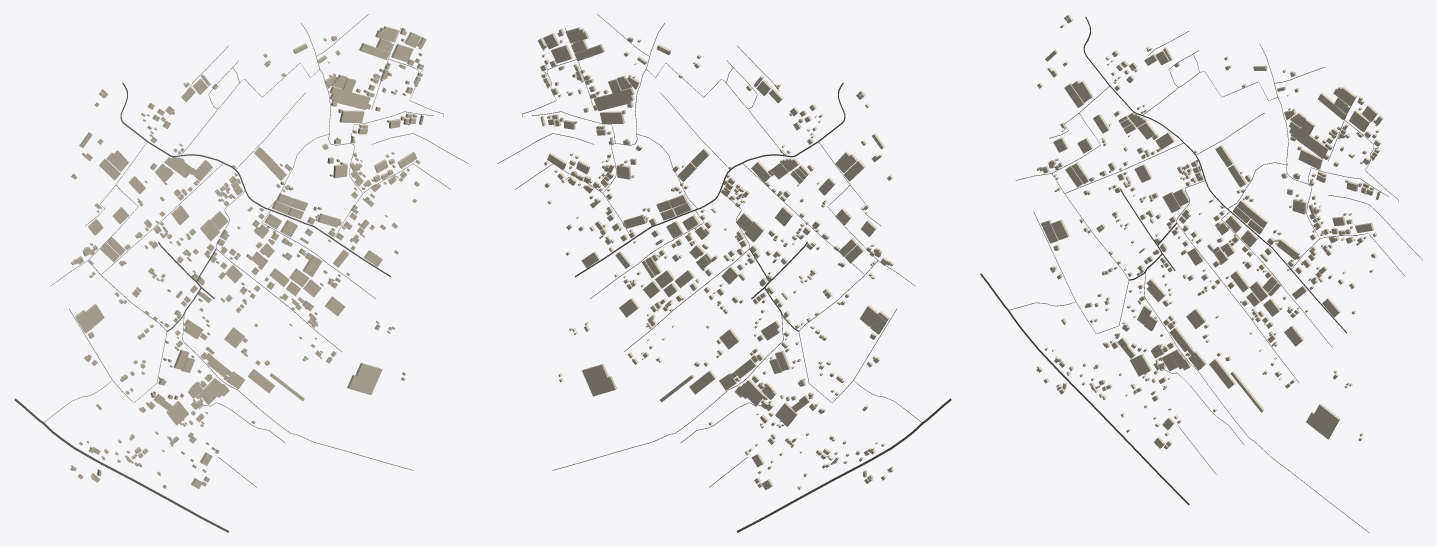
The model's file is historic-palestine-01_19_3425_3134.glb.
3 views of the same model, side by side, from view 1: azimuth 30°, elevation 25°; view 2: azimuth 150°, elevation 25°; view 3: azimuth 330°, elevation 25° (orthographic). The views are drawn at different scales.
Visible parts, largest first — view 1: Building_.264, Building_.255, Road .014, Road .008; view 2: Building_.264, Building_.255, Road .014, Road .008; view 3: Building_.255, Building_.264, Road .014, Road .008.
Part boxes in pixels (x1,y1,x2,y2): Building_.264: (347,362,382,394); Building_.255: (329,78,370,109); Road .014: (120,83,390,277); Road .008: (14,398,229,532); Building_.264: (582,364,617,396); Building_.255: (593,79,634,111); Road .014: (575,83,845,277); Road .008: (736,398,951,532); Building_.255: (1289,119,1328,158); Building_.264: (1306,403,1340,438); Road .014: (1083,17,1346,333); Road .008: (980,273,1189,505).
Size of the model in its own units: 1230 by 1272 by 8.7.
